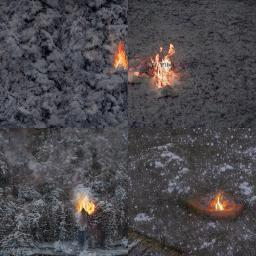Small fire: (99, 34, 195, 94), (183, 180, 250, 224), (61, 180, 117, 232)
